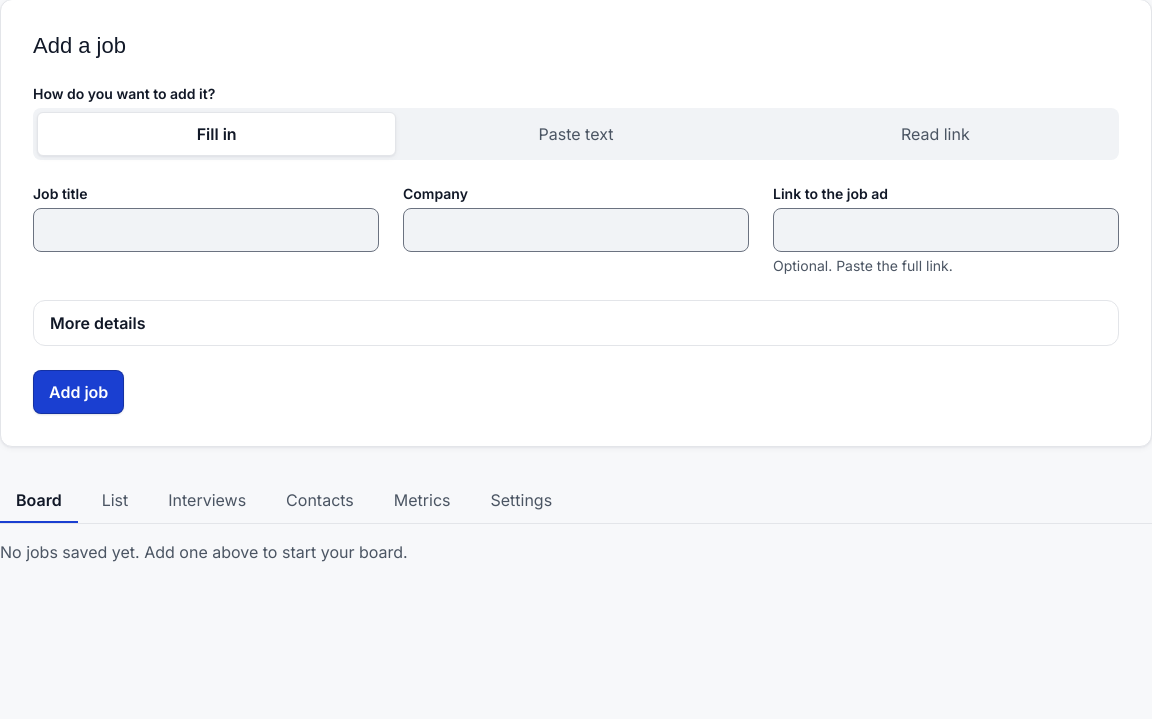
Test case: worst case data › has a plain empty state on every tab
This screenshot has width=1152, height=719.
Check: the text "No jobs saved yet. Add one above to start your board." is shown, box [0,542,408,562]
Step 1. Press the mouse on the tab "List" → point(115, 500), box [86,478,144,522]
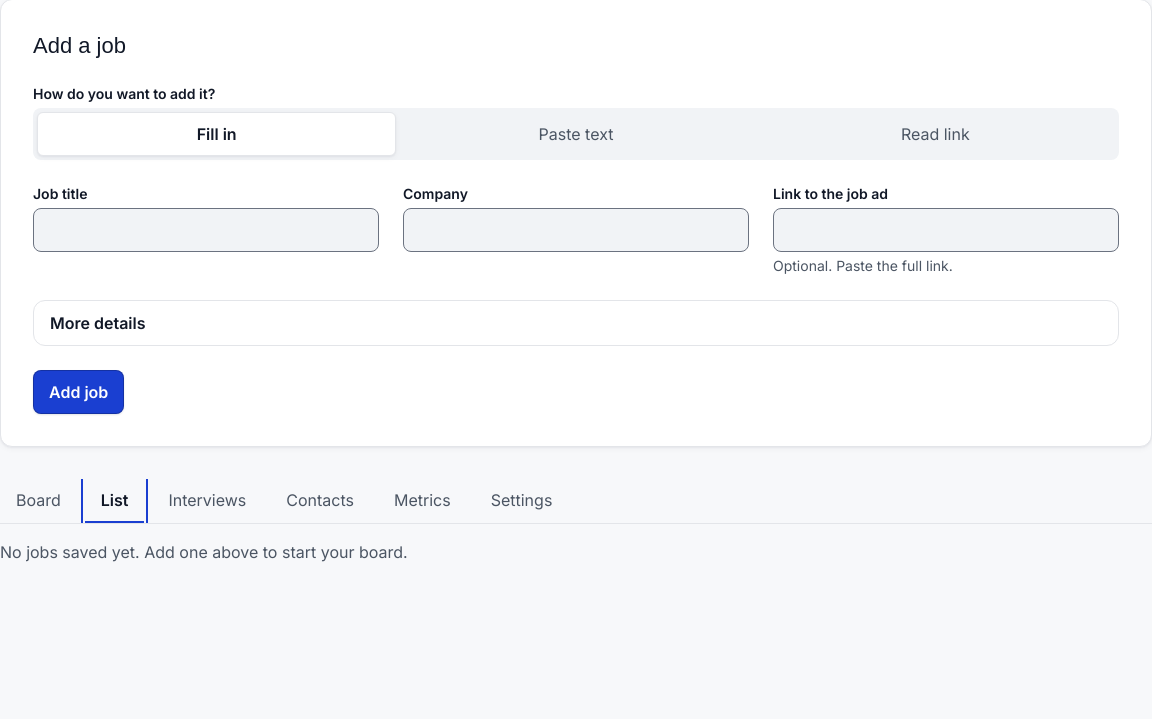
Check: the text "No jobs saved yet. Add one above to start your board." is shown, box [0,542,408,562]
Step 2. Press the mouse on the tab "Interviews" → point(207, 500), box [152,478,262,522]
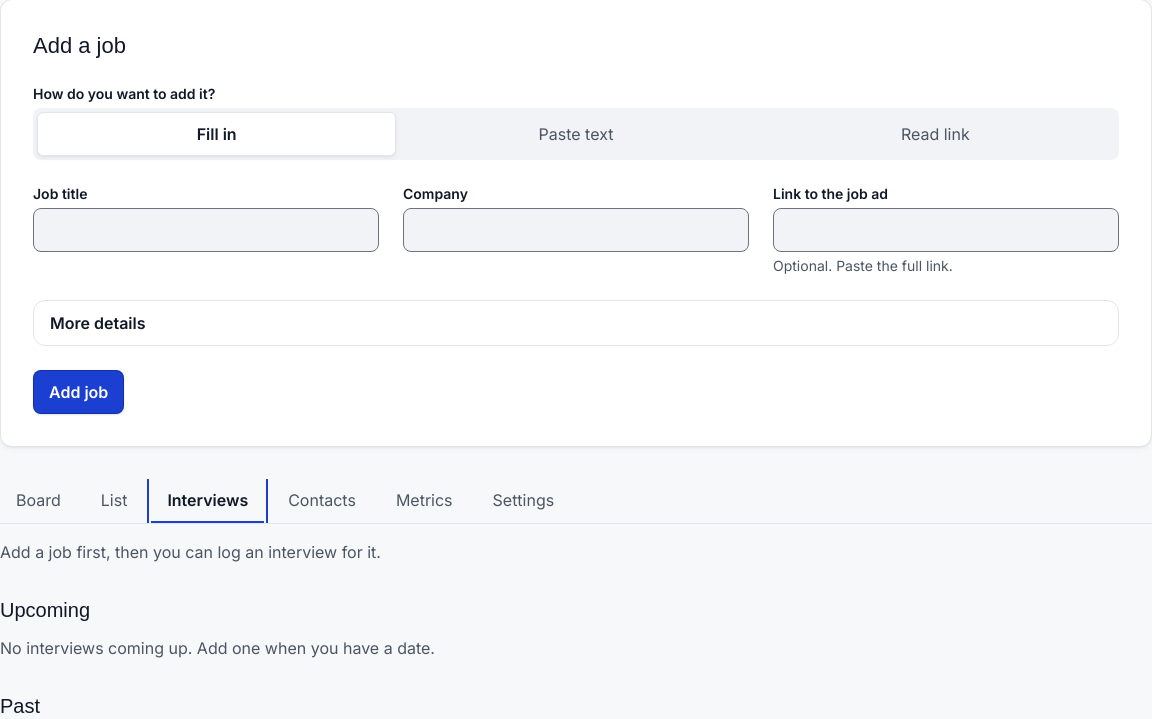
Check: the text "No interviews coming up. Add one when you have a date." is shown, box [0,638,435,658]
Step 3. Press the mouse on the tab "Contacts" → point(322, 500), box [272,478,372,522]
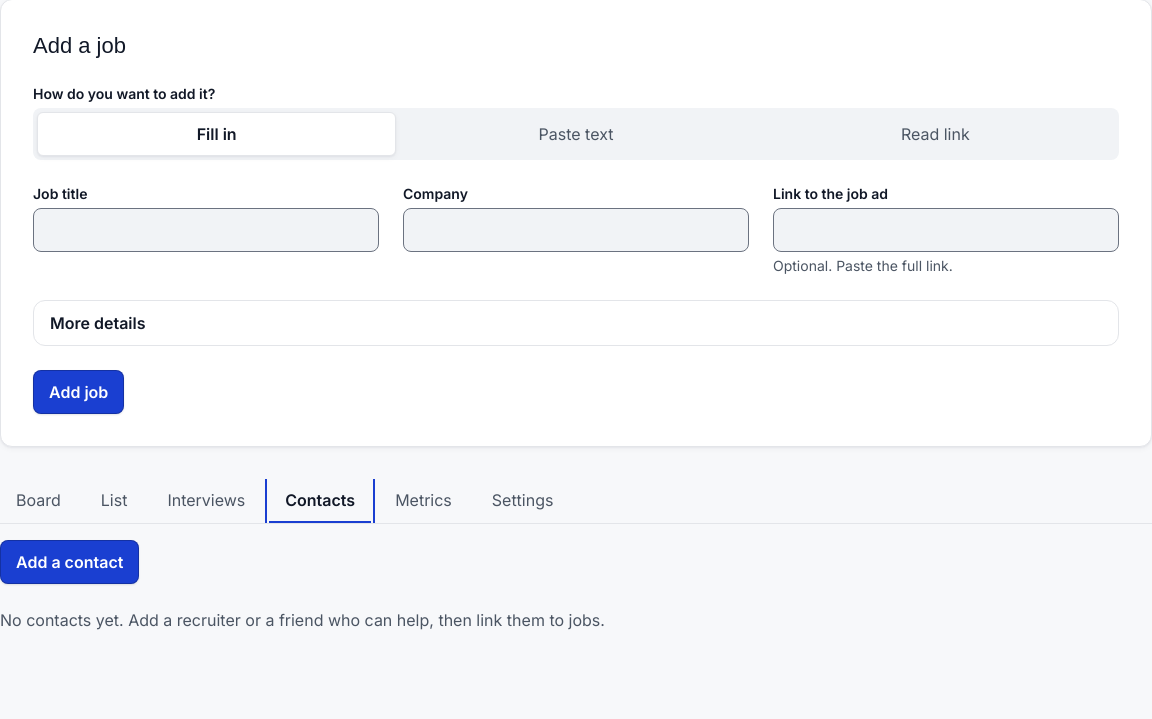
Check: the text "No contacts yet" is shown, box [0,610,605,630]
Step 4. Press the mouse on the tab "Metrics" → point(423, 500), box [379,478,468,522]
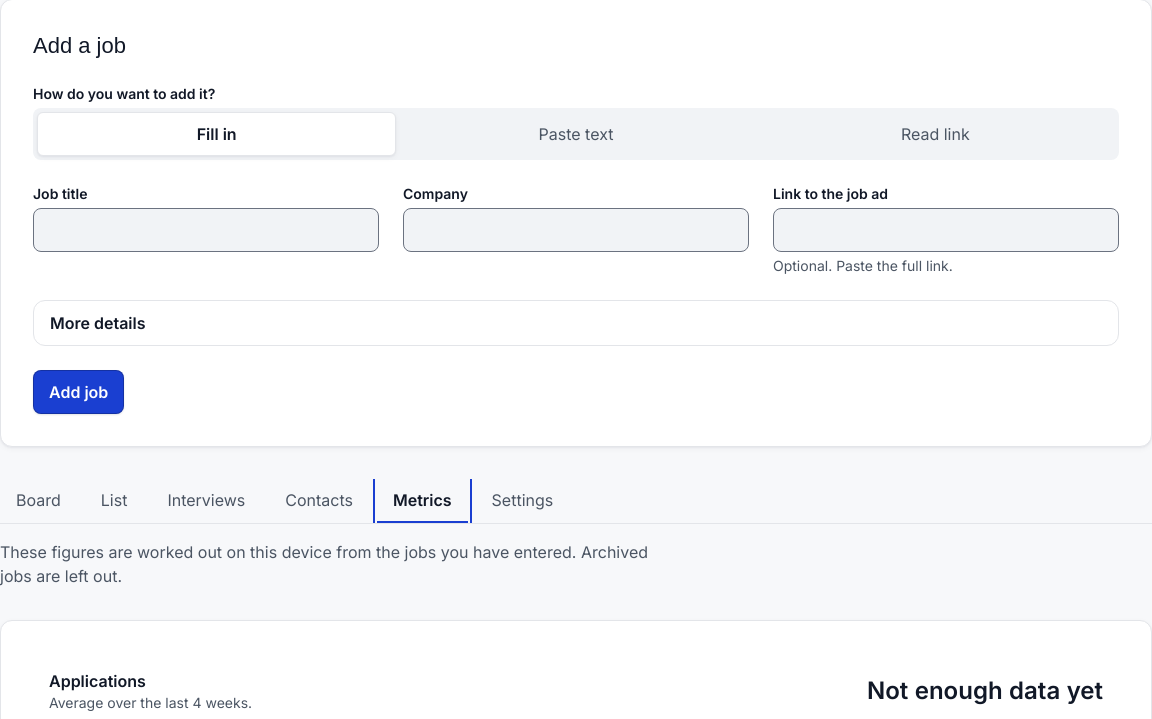
Check: the text "Not enough data yet" is shown, box [867,674,1103,706]
Step 5. Press the mouse on the tab "Settings" → point(522, 500), box [476,478,569,522]
(page scrolled)
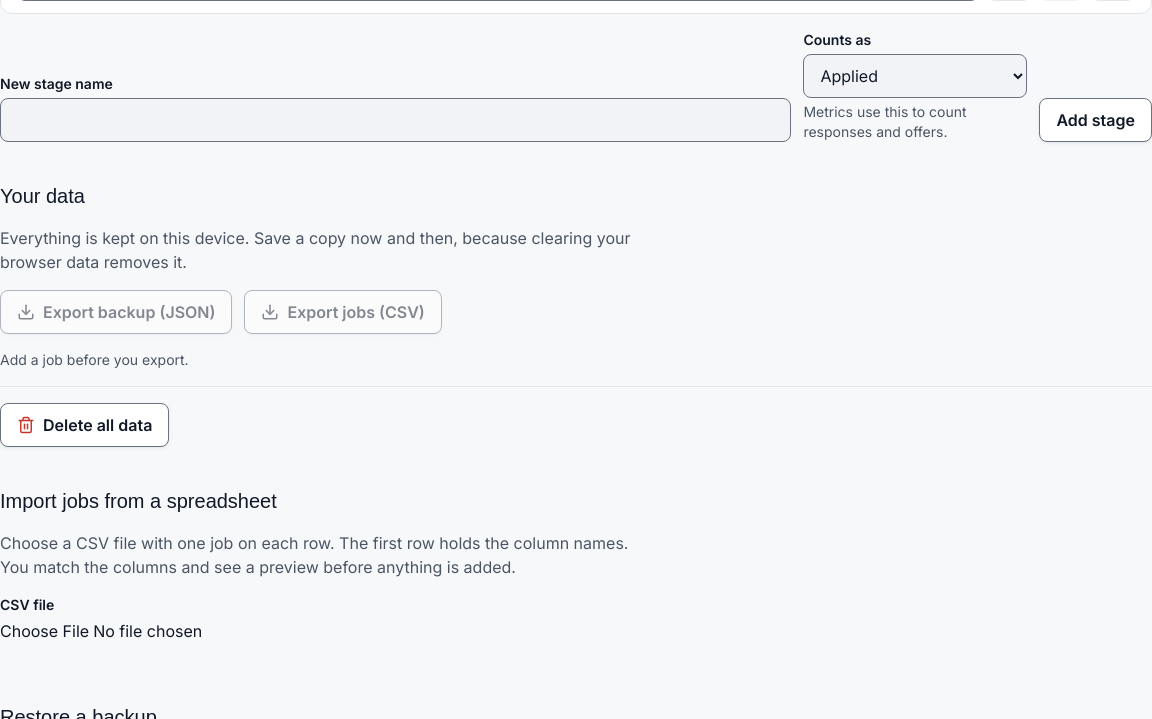
Check: the text "Add a job before you export." is shown, box [0,350,189,368]
